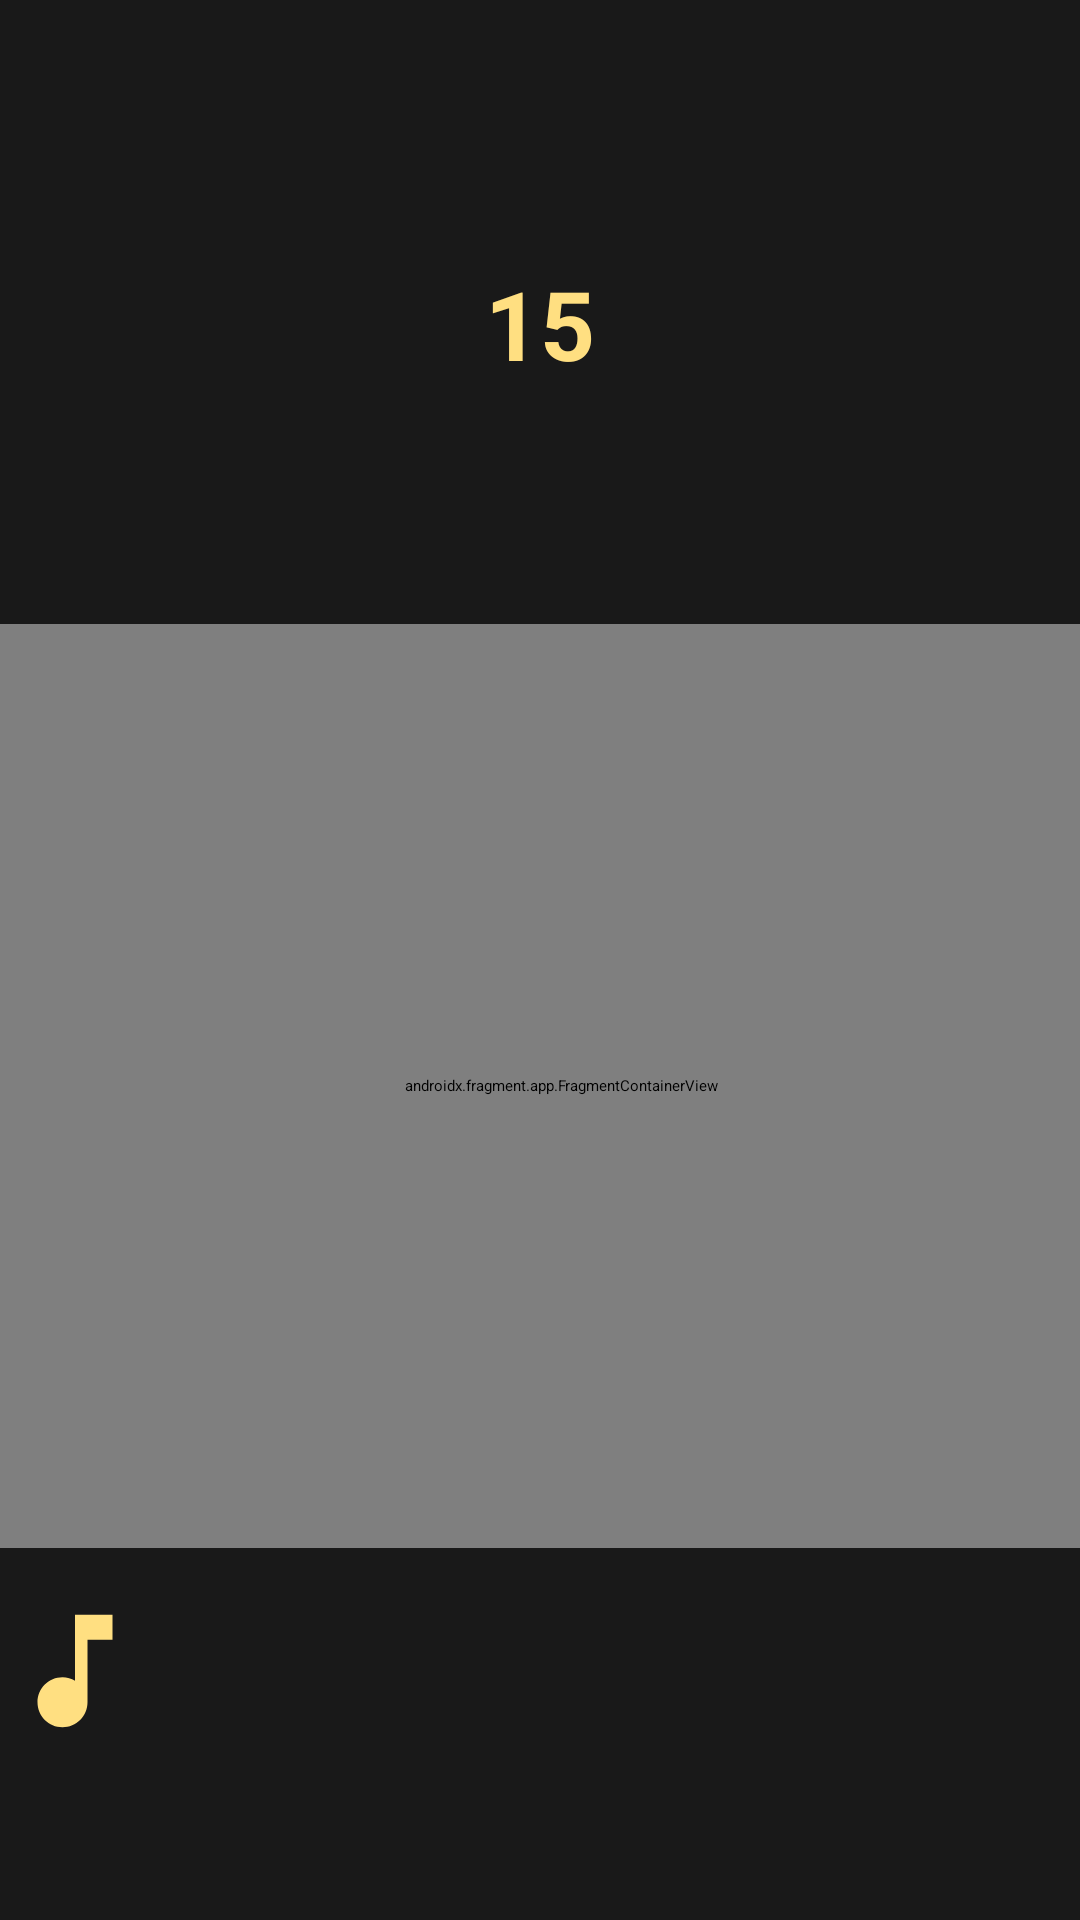

Where to tap for icons on this 1080×1920 app screen, as (x=x, y=y):
Toggle Music: (x=75, y=1671)
